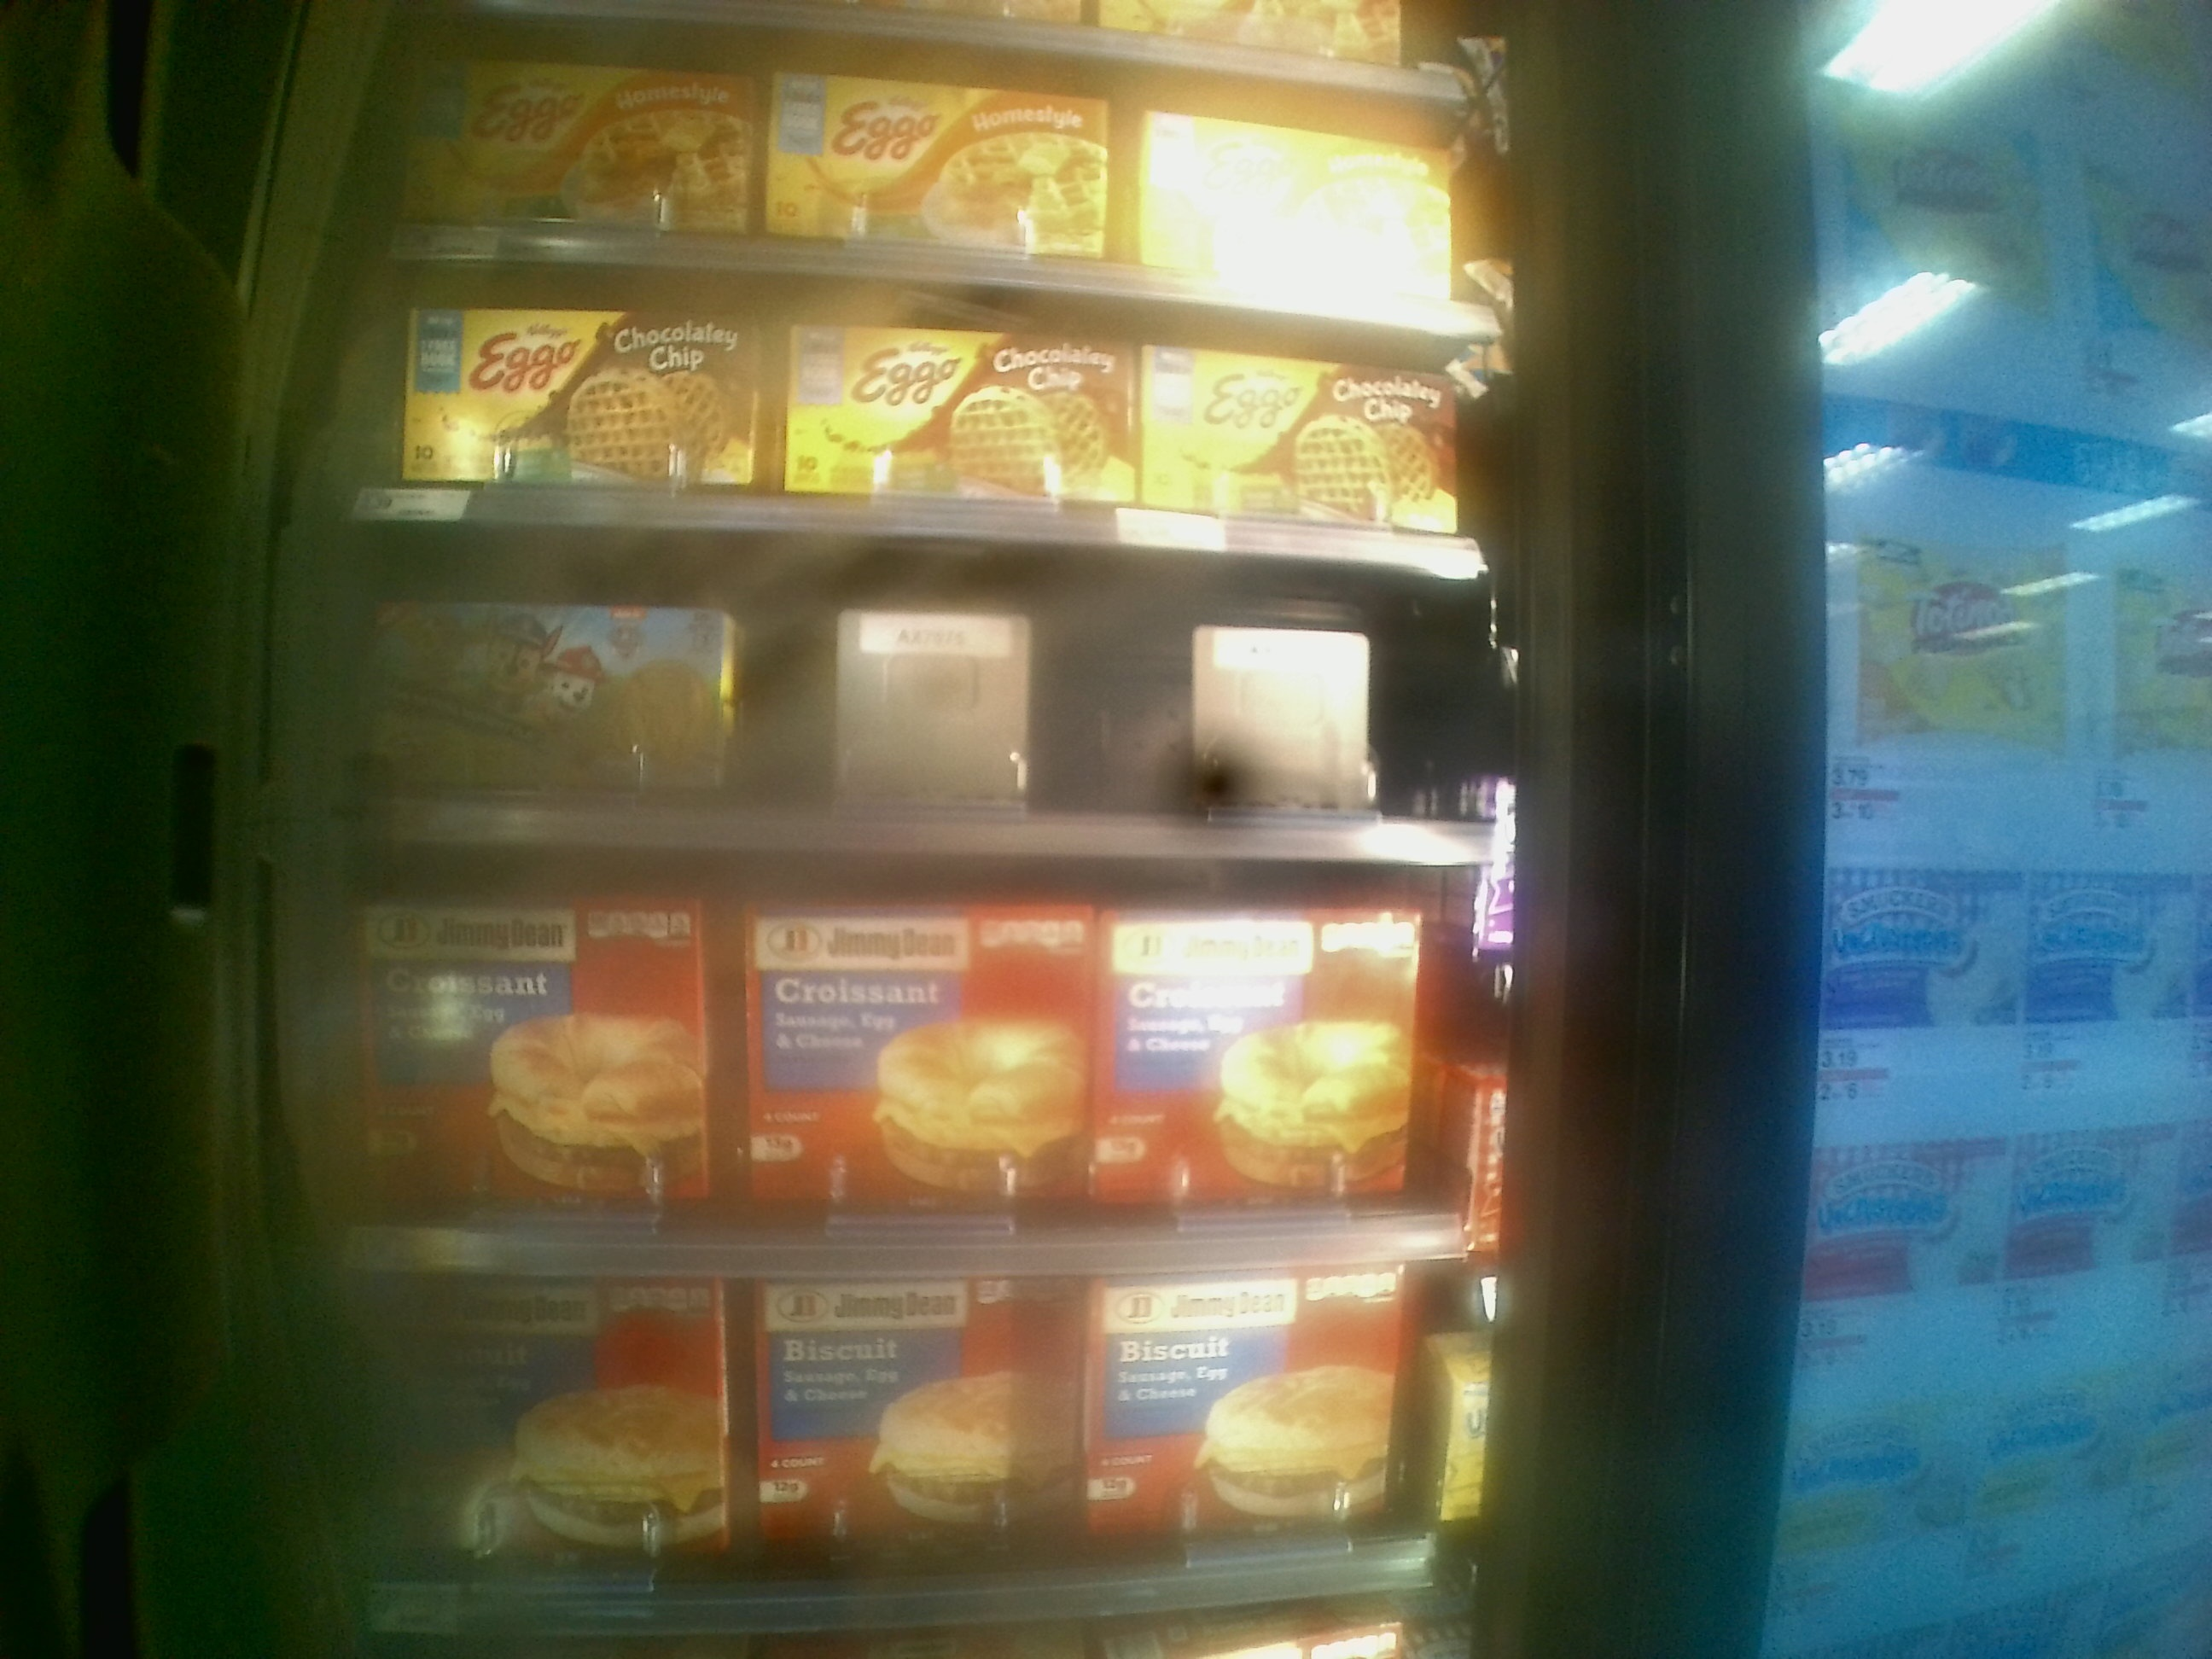shelf: (359, 843, 1503, 1286)
